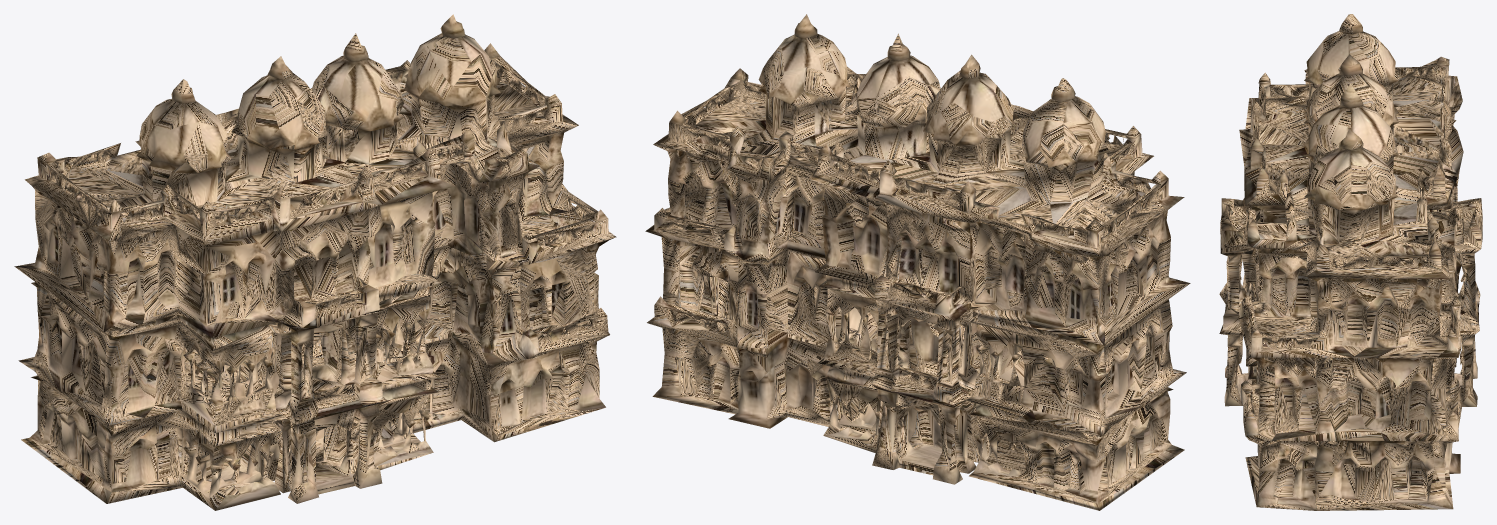
File: Palace_of_the_Four_Do.glb
3 views of the same model, side by side, from view 1: azimuth 30°, elevation 25°; view 2: azimuth 150°, elevation 25°; view 3: azimuth 270°, elevation 25° (orthographic). The views are drawn at different scales.
Visible parts, largest first — view 1: Palace_of_the_Four_Do; view 2: Palace_of_the_Four_Do; view 3: Palace_of_the_Four_Do.
Part boxes in pixels (left/top/right/bottom): Palace_of_the_Four_Do: left=14, top=14, right=616, bottom=510; Palace_of_the_Four_Do: left=645, top=14, right=1190, bottom=510; Palace_of_the_Four_Do: left=1219, top=14, right=1482, bottom=510.
Bounding box in the file's own units: 1.9 × 1.46 × 1.02.
Materials: 1 (1 with a texture image).
